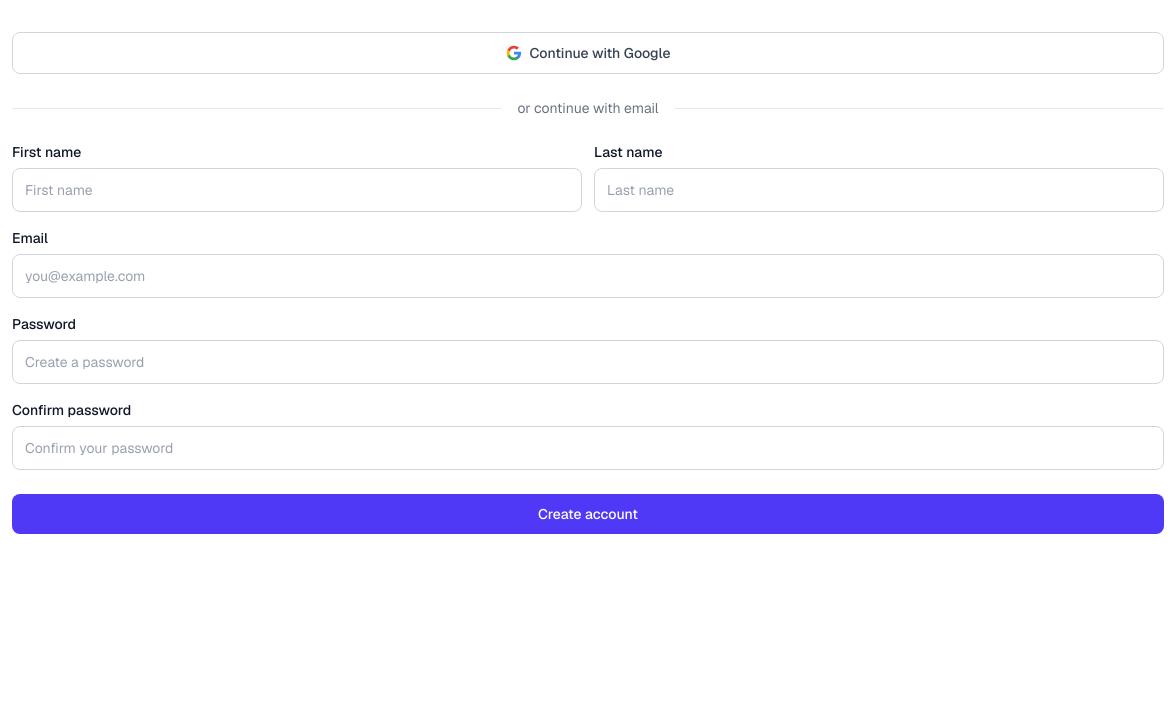
Test: SignUpForm component › shows validation error for invalid email
In the field labelled "First name": (297, 190) [12, 168, 582, 212], type "John"
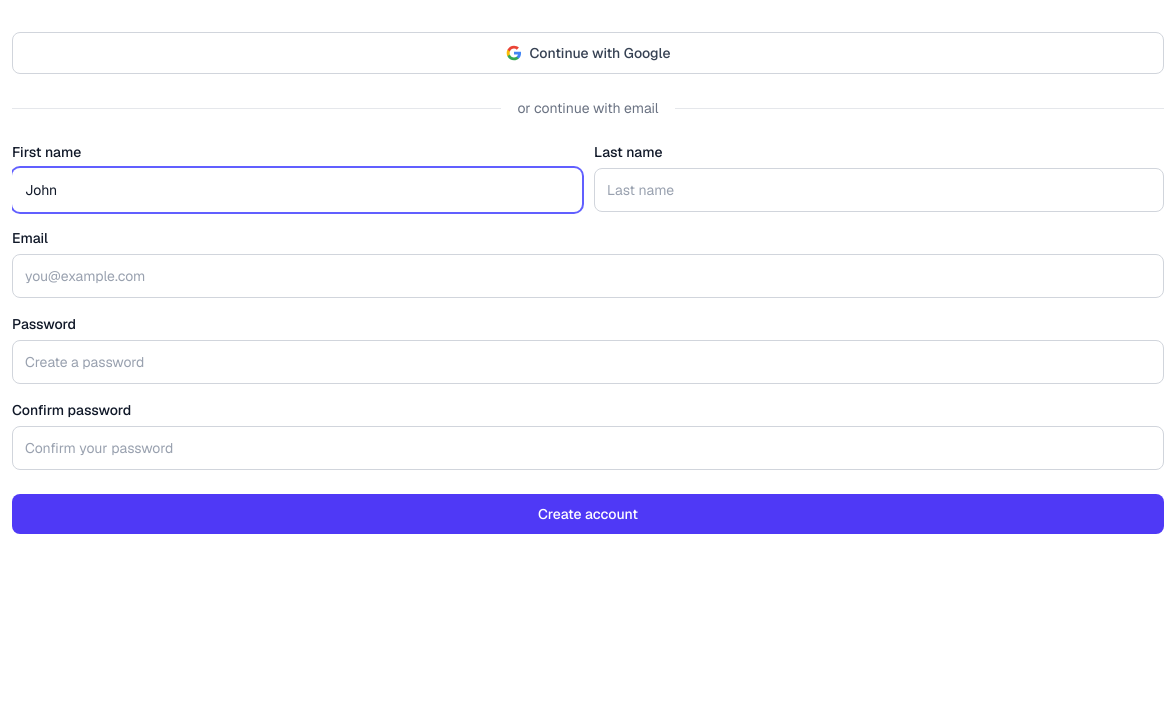
In the field labelled "Last name": (879, 190) [594, 168, 1164, 212], type "Doe"
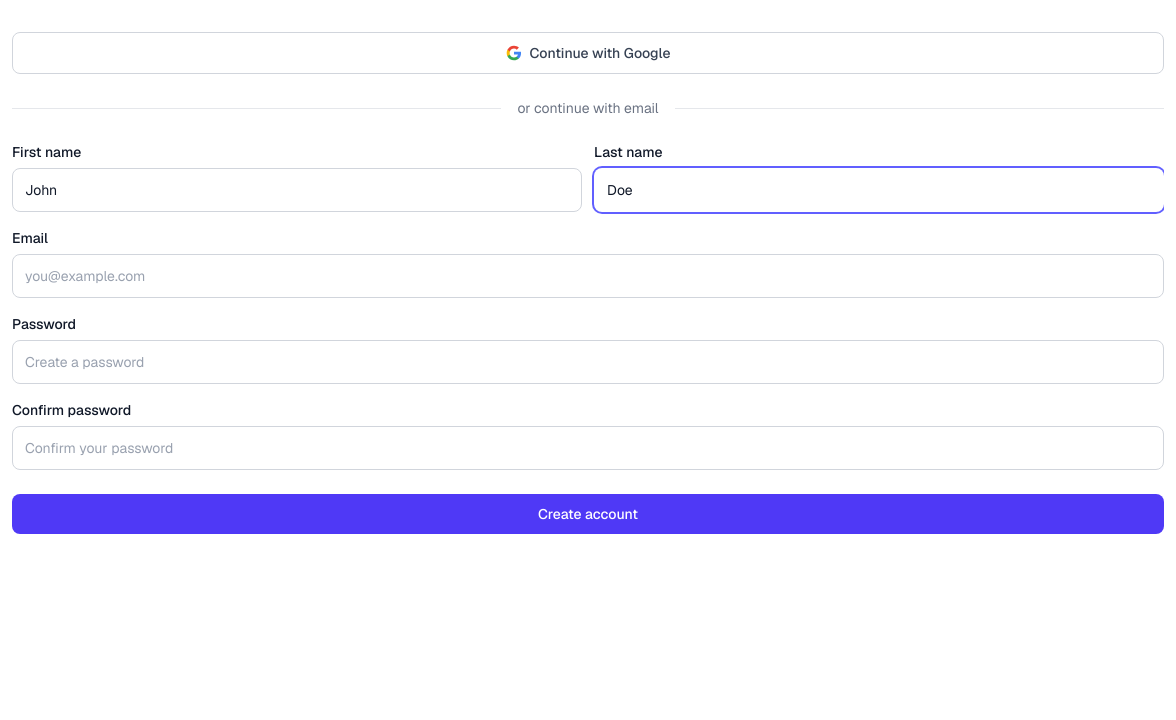
In the field labelled "Email": (588, 276) [12, 254, 1164, 298], type "invalid-email"
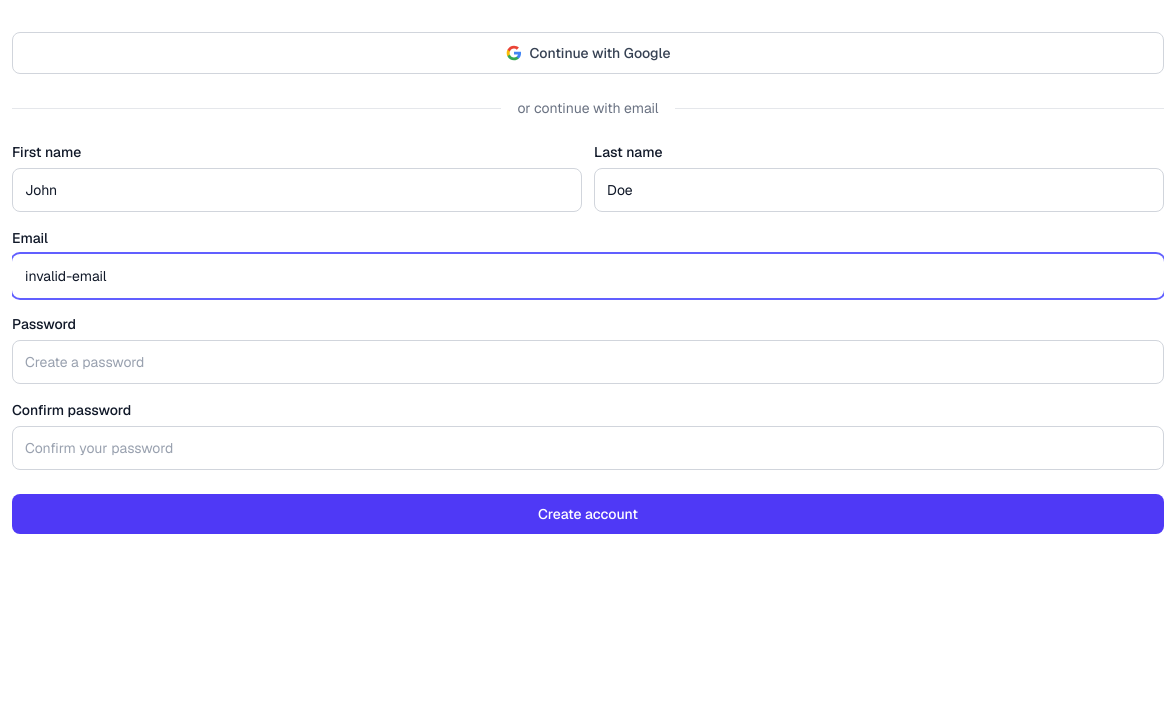
In the password field labelled "Password": (588, 362) [12, 340, 1164, 384], type "Password123"
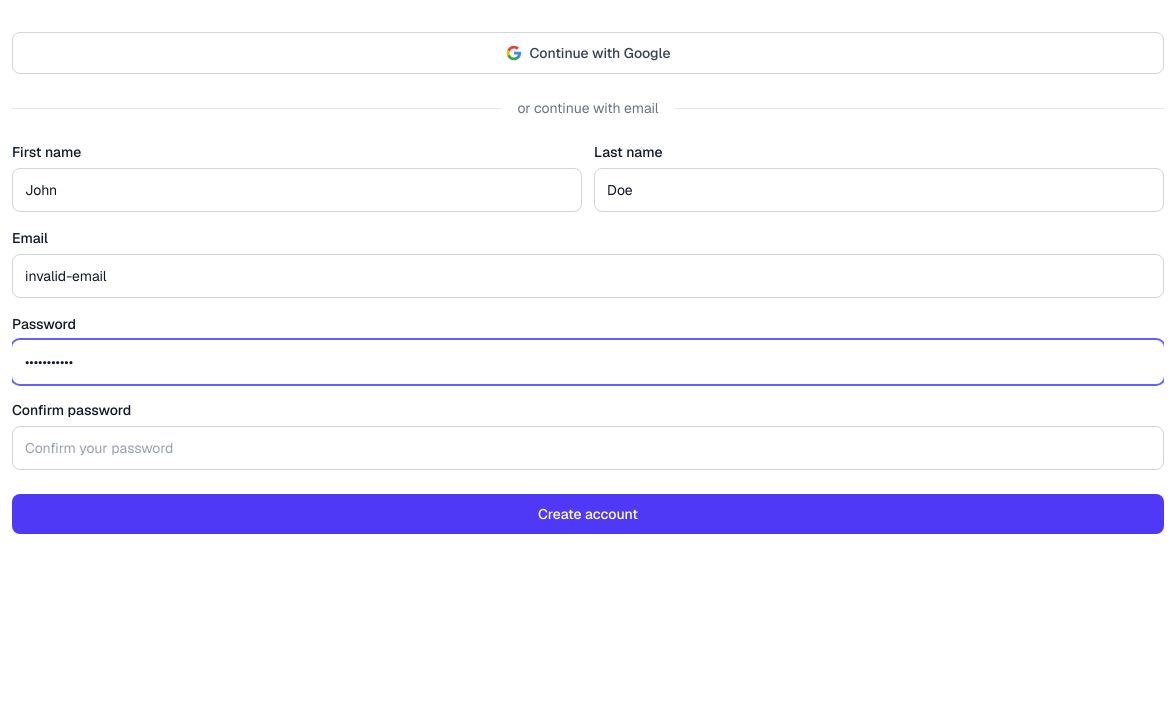
In the password field labelled "Confirm password": (588, 448) [12, 426, 1164, 470], type "Password123"
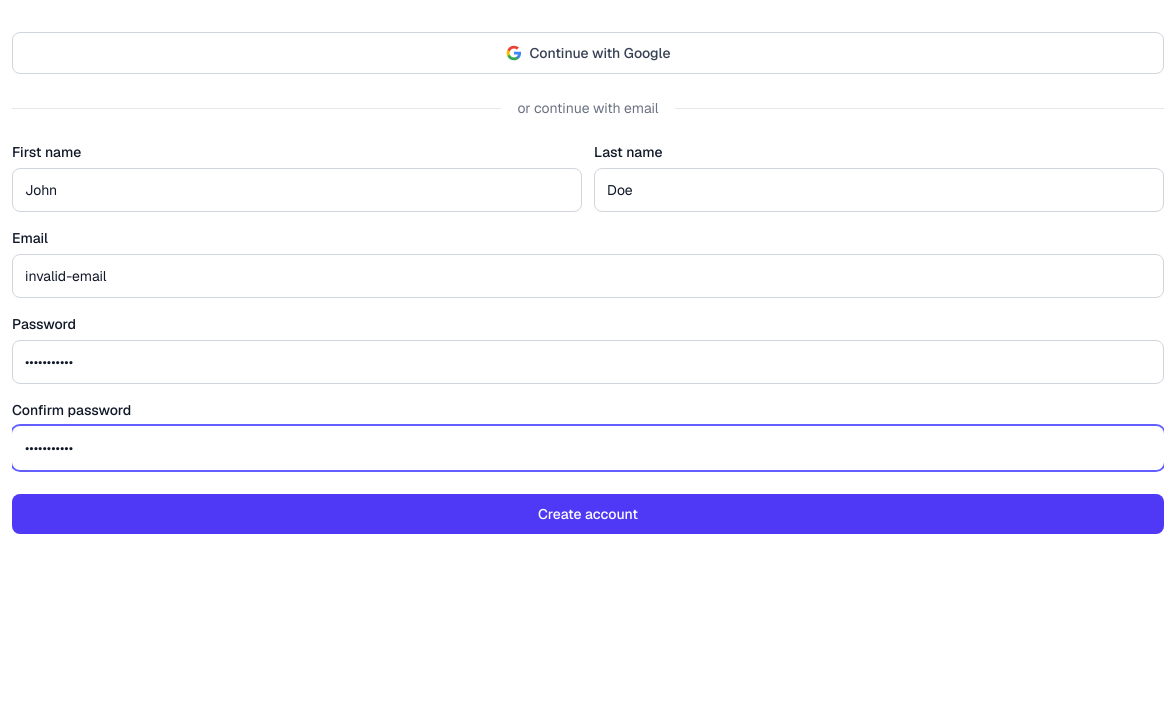
Click the button "Create account": (588, 514) [12, 494, 1164, 534]
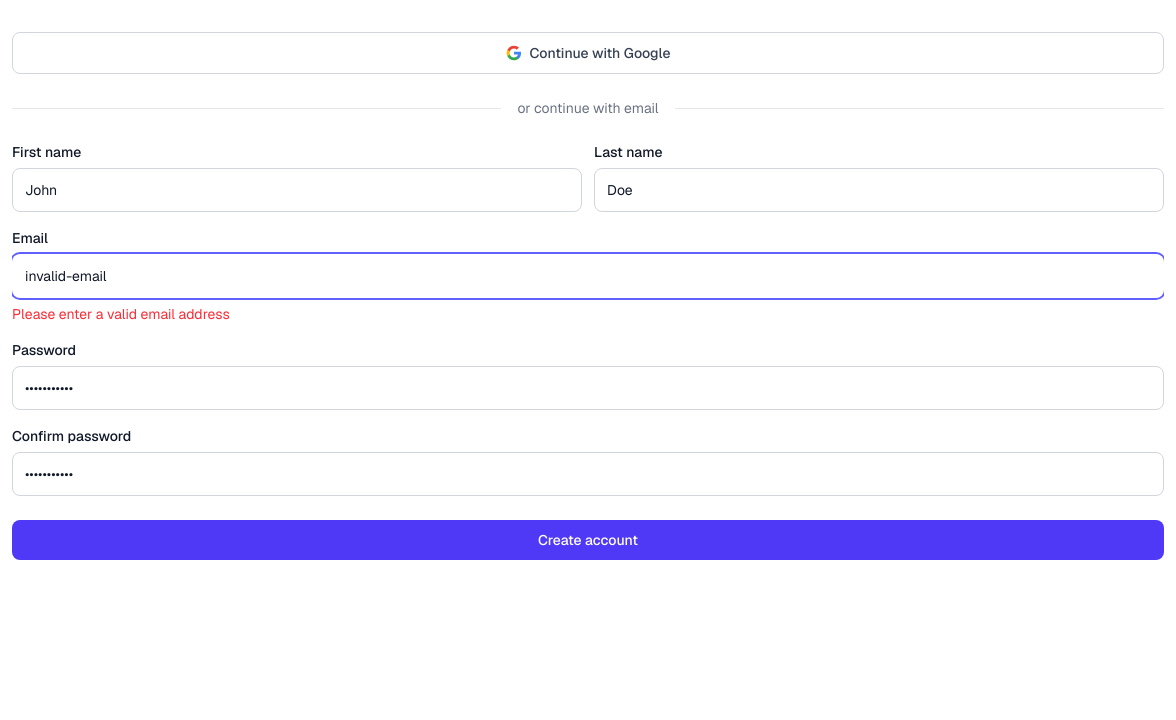
Expected: the text "Please enter a valid email address" is shown, [12, 305, 230, 323]
